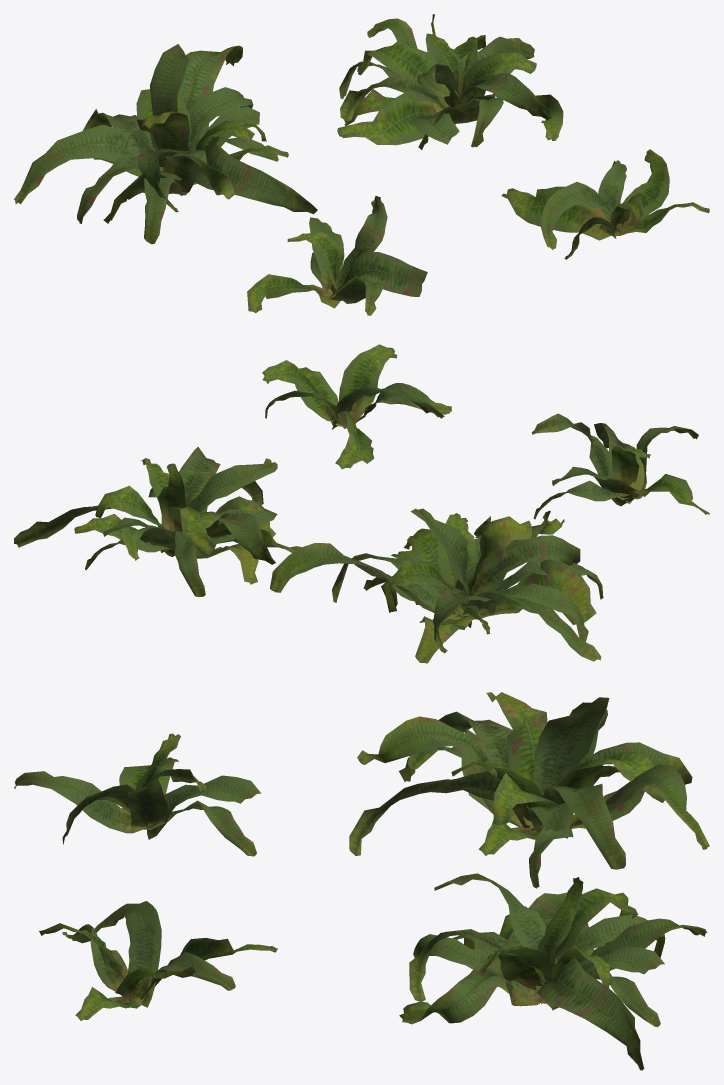
The model's file is ferns.gltf.
3 views of the same model, one above another, from view 1: azimuth 30°, elevation 25°; view 2: azimuth 150°, elevation 25°; view 3: azimuth 270°, elevation 25° (orthographic). The views are drawn at different scales.
Visible parts, largest first — view 1: fern_02_b, fern_02_c, fern_02_d, fern_02_a; view 2: fern_02_b, fern_02_c, fern_02_d, fern_02_a; view 3: fern_02_b, fern_02_c, fern_02_a, fern_02_d.
Boxes of the visible parts, bbox=[...] form: fern_02_b: bbox=[14, 44, 317, 244]; fern_02_c: bbox=[337, 14, 563, 149]; fern_02_d: bbox=[501, 149, 709, 259]; fern_02_a: bbox=[247, 196, 427, 315]; fern_02_b: bbox=[270, 508, 603, 663]; fern_02_c: bbox=[14, 447, 301, 596]; fern_02_d: bbox=[262, 344, 451, 469]; fern_02_a: bbox=[531, 413, 709, 519]; fern_02_b: bbox=[349, 692, 709, 888]; fern_02_c: bbox=[399, 873, 707, 1070]; fern_02_a: bbox=[14, 733, 261, 856]; fern_02_d: bbox=[39, 901, 277, 1020].
Bounding box in the file's own units: 1.97 × 0.4277 × 1.72.
1 material, 1 textured.
